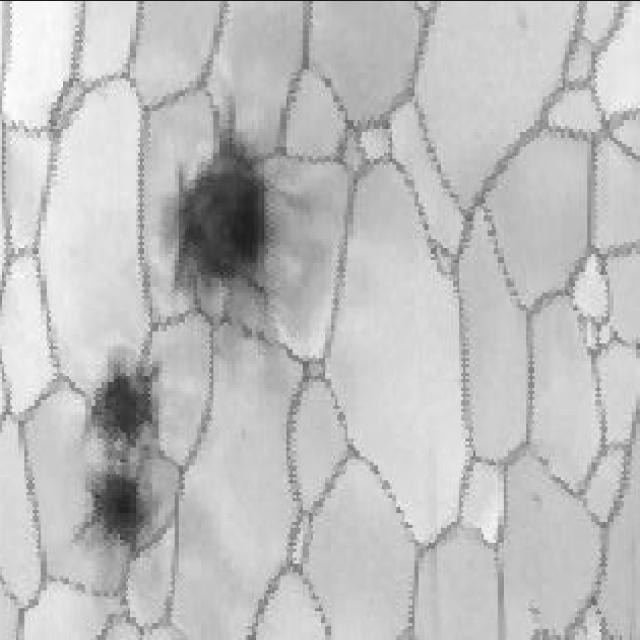good_void: (168, 105, 289, 326), (86, 341, 167, 459), (77, 456, 152, 554)
